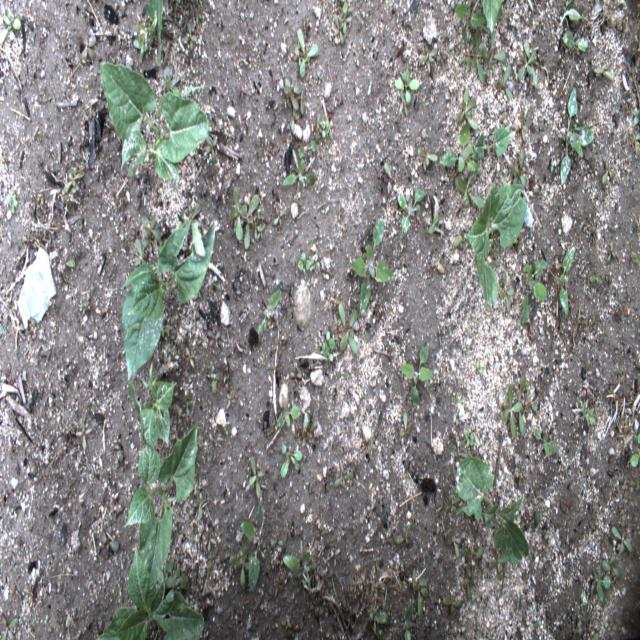crop: (120, 208, 218, 382), (99, 59, 218, 190), (126, 419, 200, 594), (95, 541, 205, 639), (452, 450, 530, 573), (464, 181, 528, 312), (127, 368, 174, 448)
weed: (437, 113, 515, 202), (348, 219, 398, 315), (453, 0, 503, 85), (558, 85, 596, 186), (240, 491, 265, 595), (399, 343, 435, 407), (132, 1, 166, 68), (229, 187, 264, 251), (282, 539, 321, 590), (522, 257, 548, 328), (558, 3, 590, 59), (290, 26, 322, 78), (502, 382, 526, 448), (395, 186, 425, 238), (453, 87, 480, 142), (558, 244, 576, 324), (595, 554, 623, 602), (256, 287, 284, 335), (274, 68, 302, 115), (530, 418, 559, 460), (281, 157, 317, 189), (337, 303, 359, 354), (393, 66, 421, 105), (247, 454, 267, 505), (279, 442, 305, 481), (229, 548, 256, 584), (410, 570, 429, 621), (517, 41, 538, 85), (73, 416, 94, 457), (491, 61, 513, 100), (329, 11, 351, 50), (368, 599, 389, 635), (320, 324, 338, 365), (417, 144, 440, 176), (439, 589, 464, 617), (612, 524, 634, 555), (276, 402, 302, 428), (485, 44, 506, 76), (296, 250, 321, 276), (502, 270, 516, 315), (142, 214, 161, 245), (183, 17, 197, 52), (315, 120, 332, 146), (595, 64, 617, 84), (581, 403, 597, 427), (419, 44, 438, 64), (2, 13, 22, 32), (82, 35, 97, 60), (2, 618, 19, 640), (5, 191, 18, 216), (476, 360, 488, 385), (393, 532, 413, 545), (453, 535, 462, 560), (600, 169, 614, 185), (465, 430, 474, 448)
